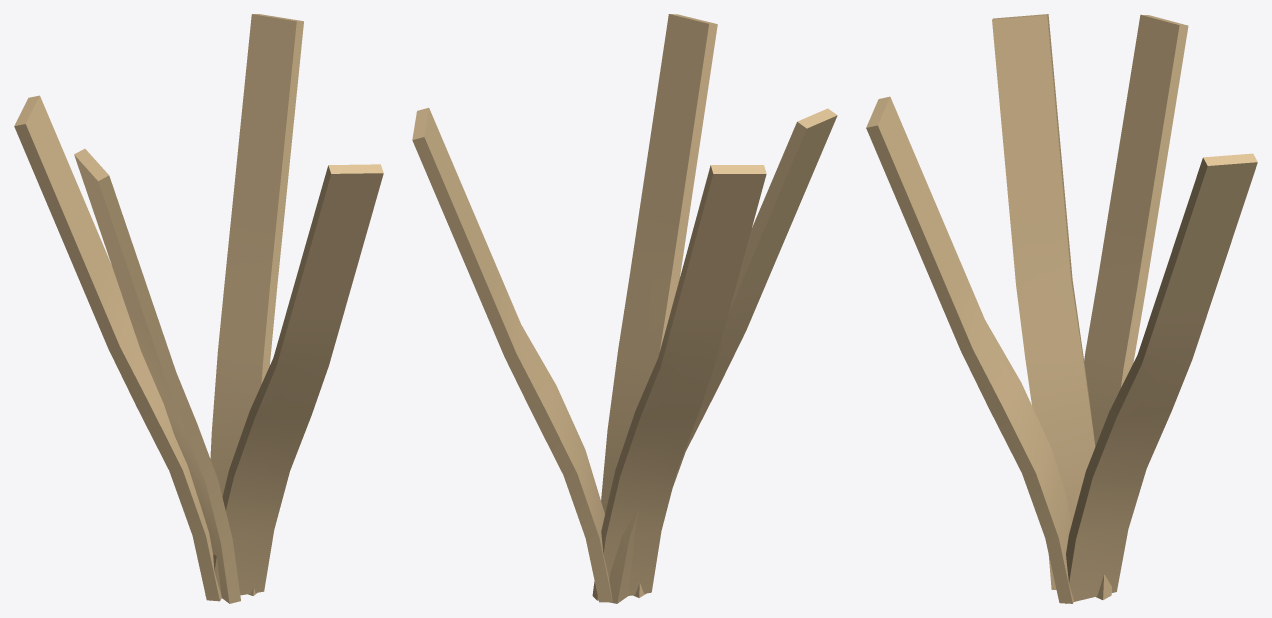
File: grass.fbx
3 views of the same model, side by side, from view 1: azimuth 30°, elevation 25°; view 2: azimuth 150°, elevation 25°; view 3: azimuth 270°, elevation 25° (orthographic).
Visible parts, largest first — view 1: Grass.001, Grass.002, Grass.003, Grass; view 2: Grass.003, Grass.001, Grass.002, Grass; view 3: Grass, Grass.002, Grass.003, Grass.001.
Boxes of the visible parts, x1=… form: Grass.001: x1=205, y1=164, x2=383, y2=595; Grass.002: x1=210, y1=14, x2=303, y2=595; Grass.003: x1=14, y1=95, x2=221, y2=601; Grass: x1=74, y1=148, x2=240, y2=603; Grass.003: x1=592, y1=165, x2=766, y2=600; Grass.001: x1=601, y1=14, x2=717, y2=597; Grass.002: x1=412, y1=107, x2=612, y2=602; Grass: x1=609, y1=108, x2=837, y2=603; Grass: x1=992, y1=14, x2=1095, y2=589; Grass.002: x1=1065, y1=153, x2=1257, y2=603; Grass.003: x1=1084, y1=14, x2=1188, y2=599; Grass.001: x1=866, y1=96, x2=1073, y2=603.
Size of the model in its own units: 22.54 by 21.36 by 31.65.
